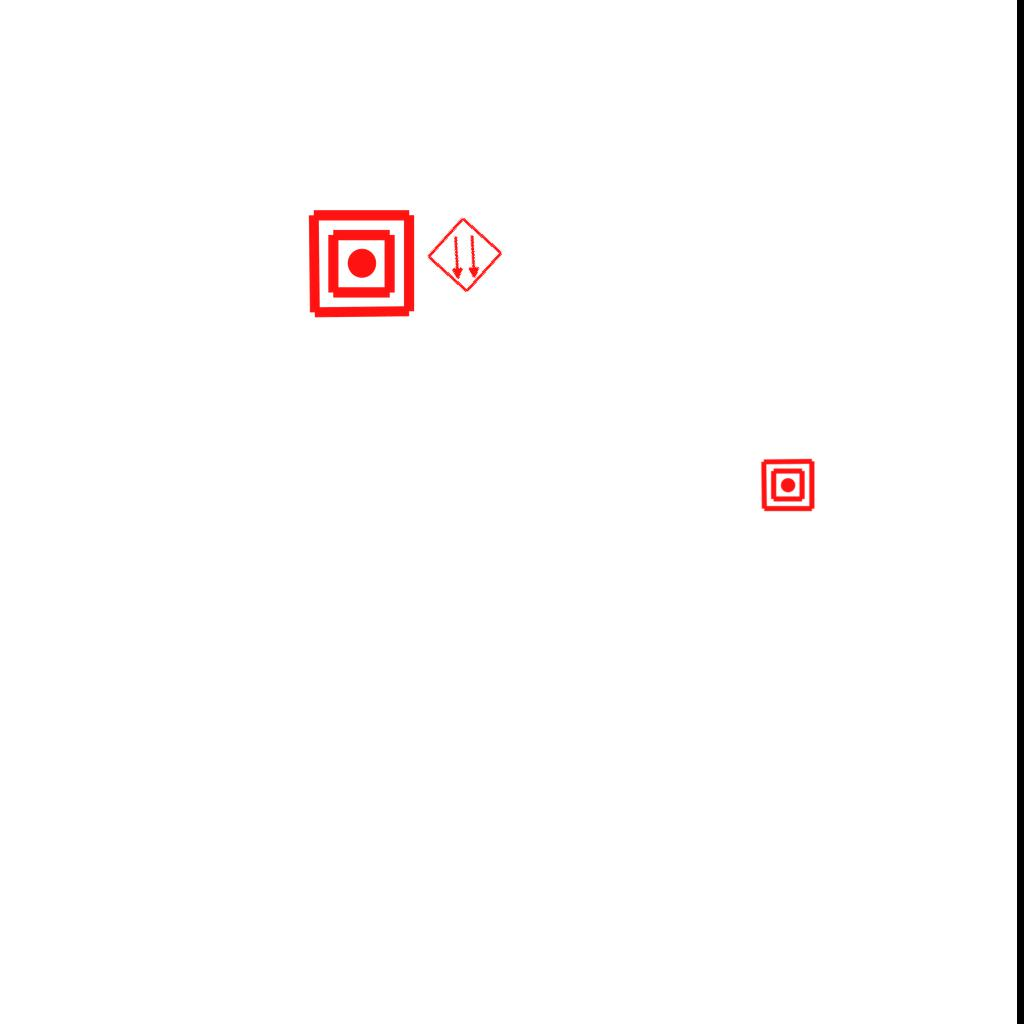NAM-Nichtautomatischer_Melder: (305, 207, 418, 320), (760, 457, 816, 513)
RMO_Rauchmelder_optischer: (425, 215, 505, 295)
